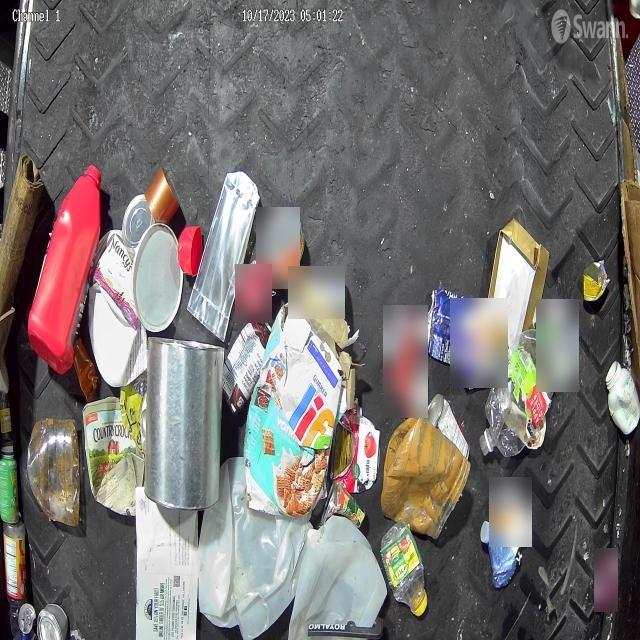non_white_jug: (28, 163, 107, 374)
